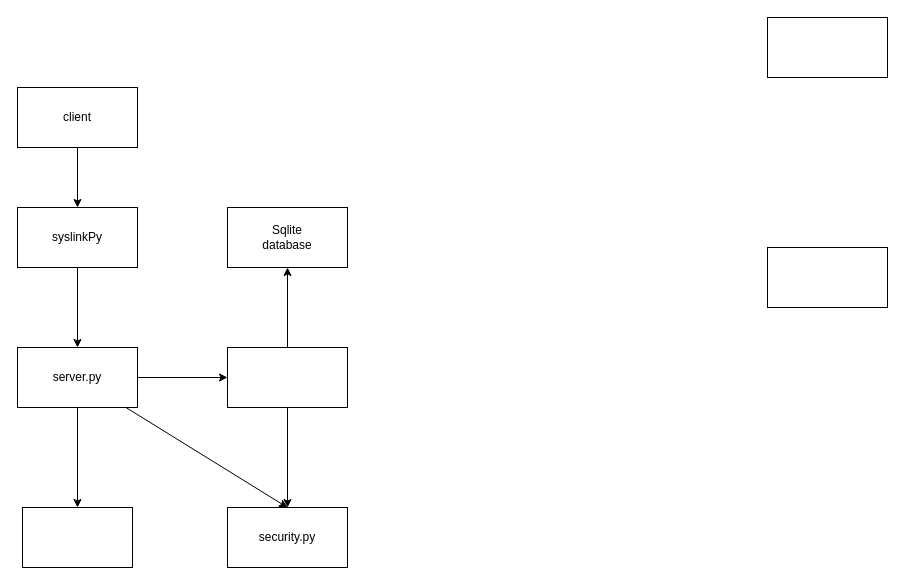
Some shapes in this 905 by 585 pixel diagram are drawn without their labels. Here are the shapes that lost their labels. From the top down, the centre of each, then its label:
At pixel 287 377: "database.py".
At pixel 77 537: "config.py".
